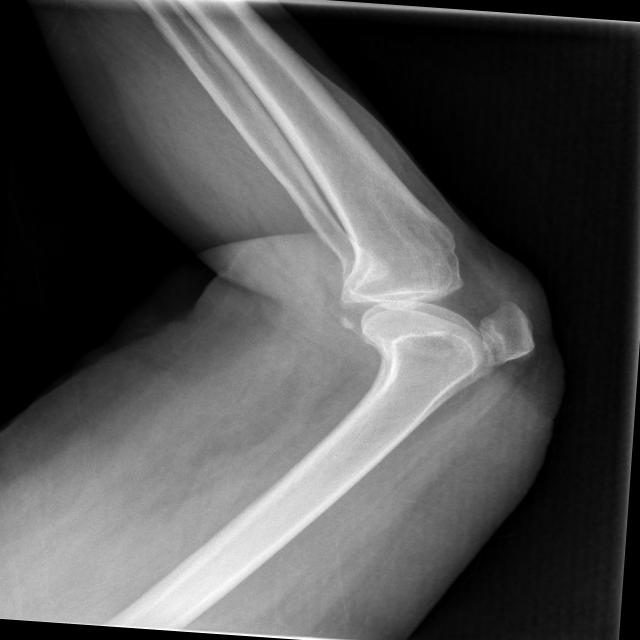Knee: (327, 201, 548, 397)
